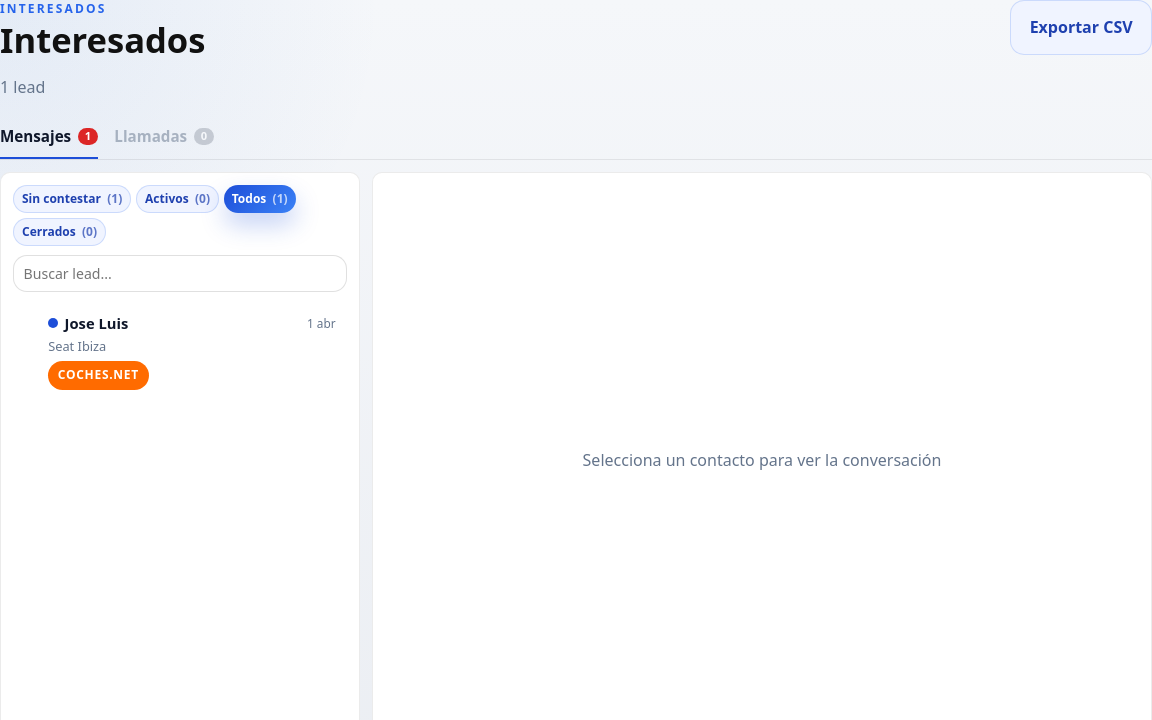
Scenario: LeadsList — composer (sugerir y enviar) › Enviar is disabled when textarea is empty
Click the text "Jose Luis": {"x": 88, "y": 323} [48,312,128,334]
(page scrolled)
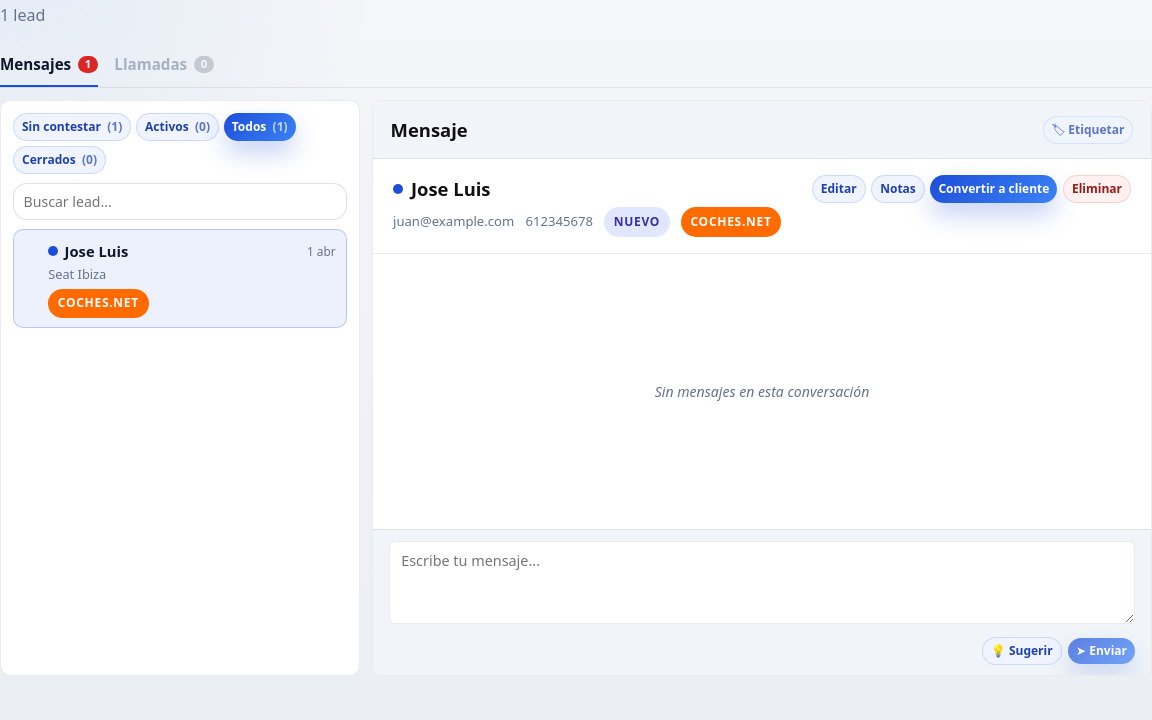
Check: the button with aria-label "Enviar mensaje" is disabled, box [1068,638,1135,664]
